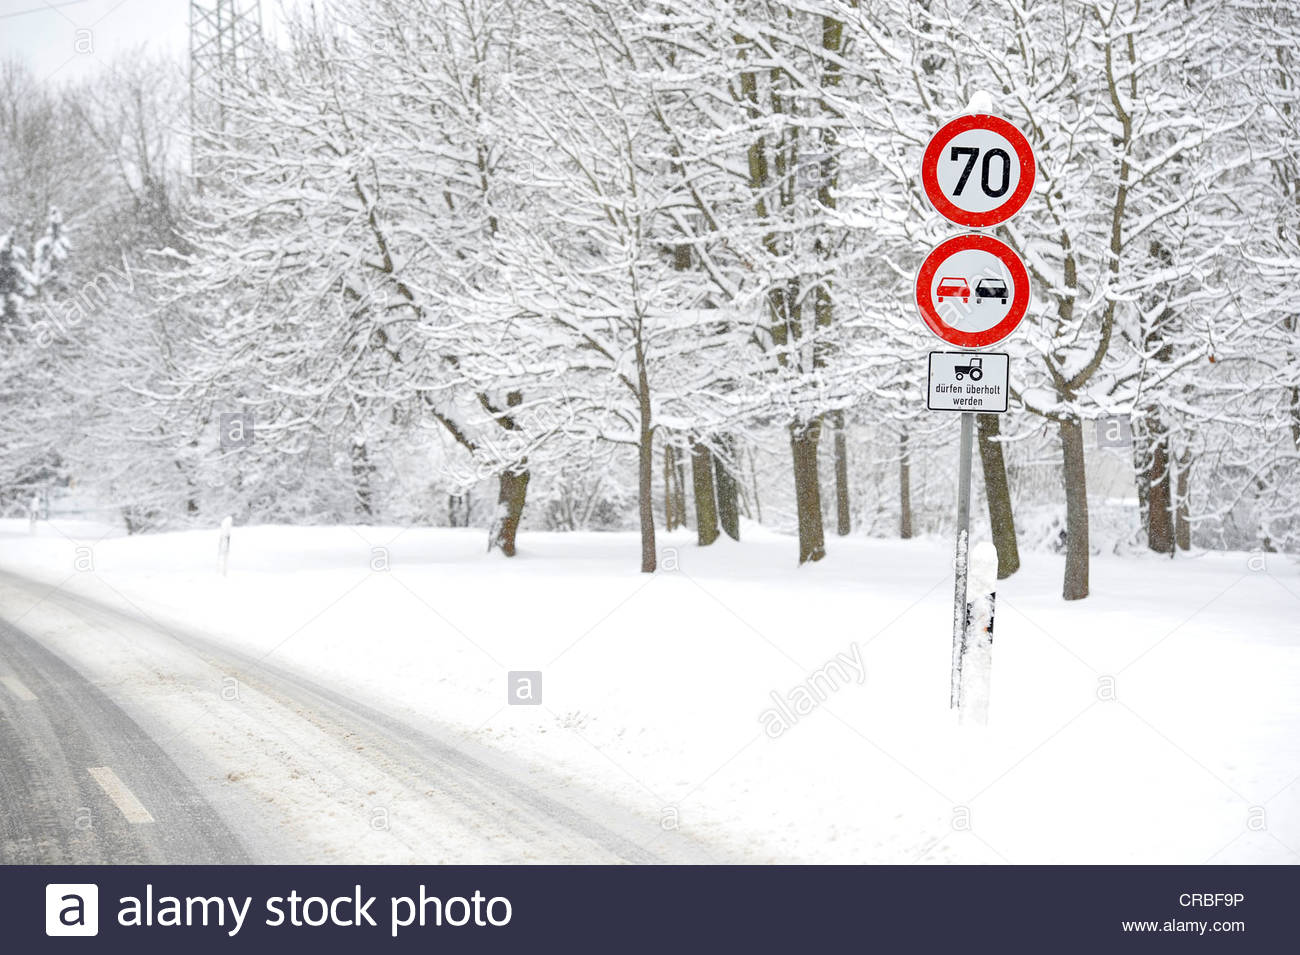speed_limit_70: (924, 114, 1034, 231)
